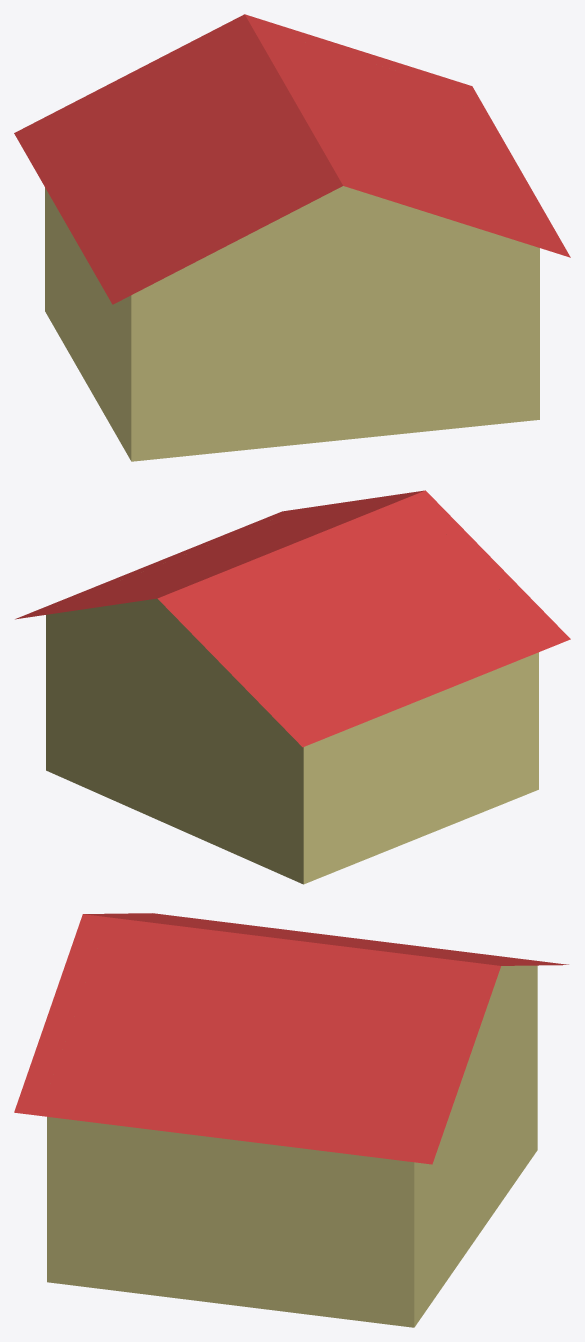
The picture shows the model from 3 angles, top to bottom: view 1: azimuth 30°, elevation 25°; view 2: azimuth 150°, elevation 25°; view 3: azimuth 270°, elevation 25°; orthographic projection. The views are drawn at different scales.
Size of the model in its own units: 22.28 by 20.86 by 11.43.
